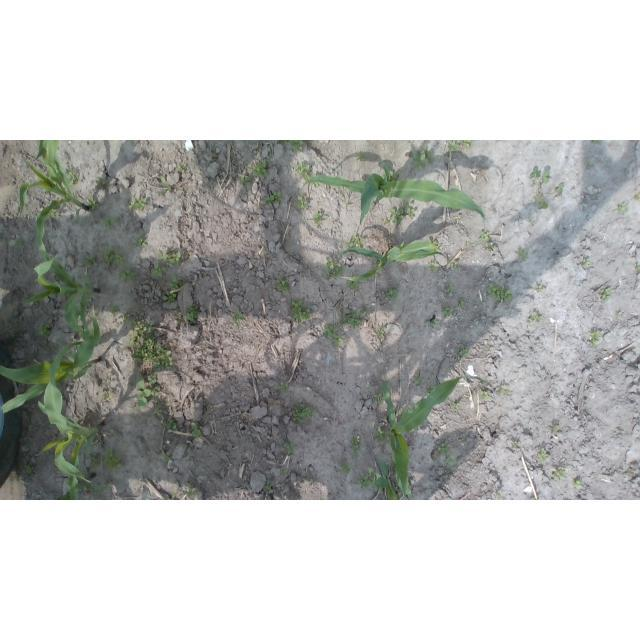Maize: (381, 373, 492, 499), (301, 162, 487, 229), (35, 340, 106, 501), (0, 301, 100, 412), (18, 141, 91, 272), (24, 249, 101, 343), (339, 241, 450, 281), (51, 473, 106, 500), (366, 458, 399, 500)
Weeds: (129, 320, 174, 371), (135, 373, 161, 409), (356, 472, 383, 493), (486, 283, 514, 303), (412, 146, 435, 169), (322, 257, 344, 280), (323, 321, 342, 347), (103, 448, 124, 471), (291, 299, 311, 323), (103, 246, 126, 266), (292, 404, 316, 423), (341, 309, 362, 329), (157, 250, 181, 266), (261, 189, 283, 205), (116, 268, 138, 283), (294, 161, 310, 181), (186, 304, 201, 325), (168, 275, 186, 292), (252, 162, 269, 179), (64, 168, 80, 185), (375, 425, 390, 443), (311, 209, 327, 225), (127, 197, 145, 211), (346, 236, 365, 249), (552, 466, 567, 482), (38, 322, 53, 338), (589, 331, 603, 348), (162, 419, 179, 433), (160, 177, 172, 196), (191, 423, 203, 442), (533, 195, 548, 210), (87, 196, 101, 212), (391, 208, 404, 225), (455, 347, 469, 362), (231, 310, 246, 324), (528, 312, 544, 325), (102, 217, 118, 230), (184, 482, 197, 498), (88, 452, 101, 468), (403, 202, 415, 219), (84, 254, 98, 268), (151, 264, 166, 277), (384, 288, 400, 300), (163, 292, 177, 305), (437, 442, 450, 456), (516, 247, 529, 261), (295, 196, 307, 211), (275, 279, 290, 291), (444, 454, 457, 467), (350, 435, 362, 449), (289, 141, 304, 152), (95, 179, 113, 188), (134, 236, 147, 248), (442, 306, 454, 319), (284, 443, 297, 455), (613, 203, 627, 214), (538, 448, 548, 463), (601, 287, 611, 302), (428, 260, 440, 272), (339, 462, 351, 474), (529, 166, 541, 178), (348, 279, 360, 291), (276, 381, 289, 392), (372, 393, 384, 404), (573, 478, 584, 490), (478, 389, 490, 400), (447, 141, 459, 152), (554, 183, 564, 196), (50, 343, 63, 353), (360, 306, 373, 316), (239, 175, 250, 186), (119, 311, 129, 323), (48, 209, 60, 219), (444, 283, 455, 293), (498, 386, 508, 397), (375, 327, 385, 338), (542, 170, 551, 182), (460, 140, 473, 148), (389, 171, 399, 181), (356, 151, 366, 161), (413, 374, 423, 384), (582, 258, 591, 269), (103, 390, 112, 401), (108, 305, 118, 314), (451, 402, 461, 411), (163, 452, 172, 462), (429, 319, 440, 327), (154, 406, 165, 414), (460, 297, 467, 309), (310, 181, 322, 188), (15, 238, 24, 247), (178, 164, 187, 173), (480, 232, 489, 241), (25, 465, 34, 474), (486, 242, 494, 252), (279, 467, 287, 477), (535, 284, 544, 292), (82, 468, 90, 477), (427, 239, 437, 246), (351, 450, 362, 456), (586, 160, 594, 168), (451, 260, 458, 269), (427, 386, 436, 393), (553, 424, 560, 433), (266, 482, 273, 491), (634, 190, 640, 200), (383, 218, 390, 225), (307, 474, 314, 481), (171, 491, 178, 498), (514, 440, 520, 448), (617, 430, 626, 435), (461, 438, 467, 445), (528, 216, 534, 223), (280, 140, 288, 145), (636, 263, 640, 272), (617, 311, 622, 318), (50, 304, 55, 310), (592, 141, 601, 144), (246, 165, 251, 170), (282, 497, 290, 500), (312, 173, 317, 177), (378, 388, 382, 392), (457, 214, 461, 218), (464, 243, 468, 246)
